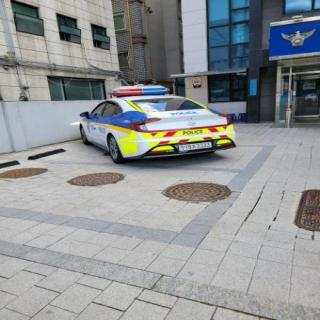Police_car: (78, 83, 237, 167)
